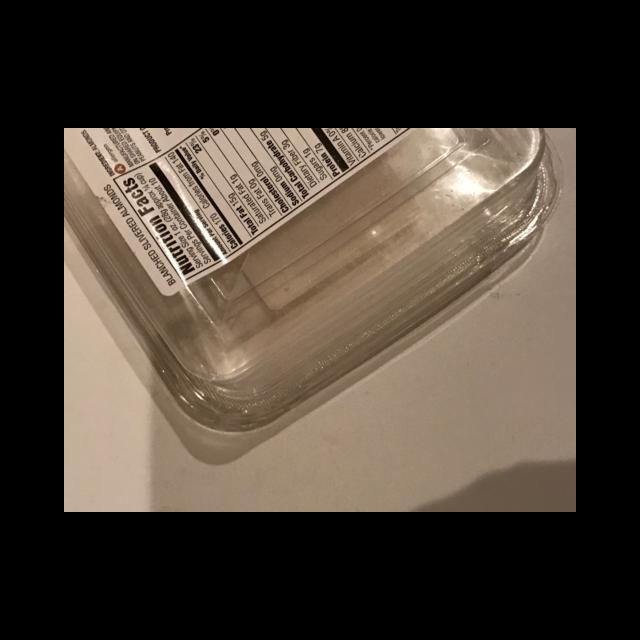plastic: (64, 128, 562, 435)
